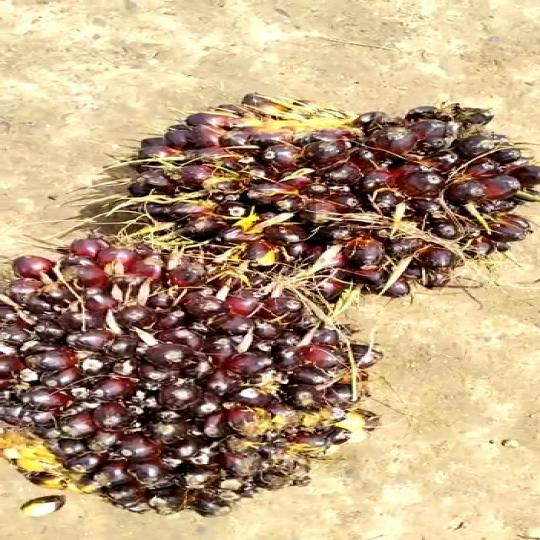kurang masak: (0, 212, 374, 529), (120, 80, 540, 304)
